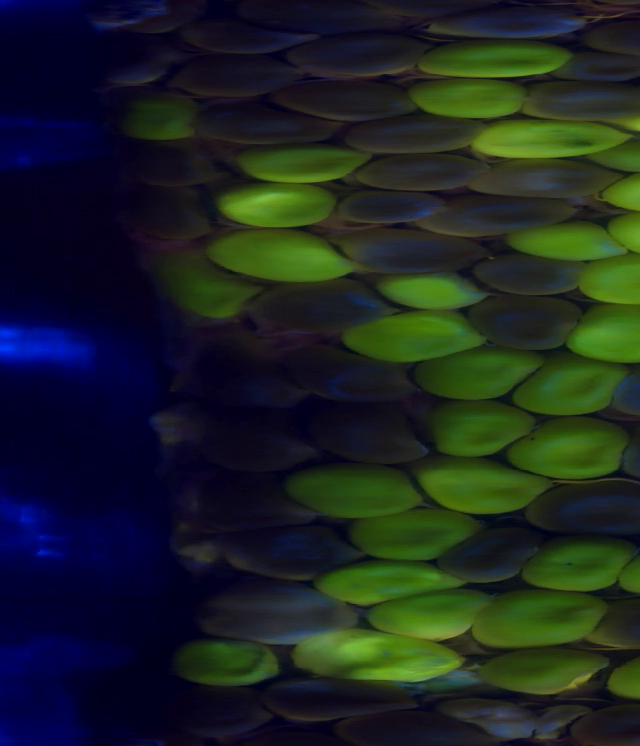fluorescent: (292, 636, 467, 680), (349, 304, 481, 361), (471, 643, 605, 696), (413, 462, 545, 513), (212, 235, 357, 281), (226, 141, 368, 187), (475, 592, 600, 644), (509, 422, 626, 477), (357, 511, 476, 565), (292, 467, 418, 517), (422, 398, 524, 459), (416, 348, 529, 403), (368, 263, 483, 317), (368, 595, 492, 644), (519, 357, 618, 417), (318, 563, 457, 602), (161, 258, 256, 314), (531, 537, 633, 589), (402, 76, 527, 117), (418, 44, 570, 77), (516, 220, 635, 261), (479, 121, 620, 155), (219, 187, 334, 226), (185, 633, 285, 676), (124, 94, 204, 147), (568, 303, 640, 361), (579, 259, 640, 302)
nonfluorescent: (201, 578, 357, 643), (183, 329, 296, 404), (293, 347, 419, 410), (189, 99, 344, 148), (226, 522, 361, 577), (194, 403, 316, 461), (257, 284, 390, 336), (311, 403, 426, 463), (531, 481, 640, 543), (167, 1, 298, 52), (201, 476, 323, 528), (467, 294, 578, 351), (172, 51, 300, 100), (430, 1, 589, 40), (334, 231, 489, 269), (267, 676, 416, 715), (339, 707, 485, 746), (126, 187, 219, 246), (301, 39, 424, 83), (479, 162, 613, 199), (127, 137, 224, 187), (356, 152, 487, 189), (431, 200, 565, 236), (187, 685, 275, 735), (301, 85, 413, 124), (352, 121, 490, 152), (444, 533, 535, 580), (96, 31, 174, 83), (304, 1, 416, 37), (524, 83, 640, 117), (483, 259, 582, 291), (339, 191, 437, 220), (583, 699, 640, 740), (560, 51, 640, 80), (589, 11, 640, 52), (604, 602, 640, 640)
